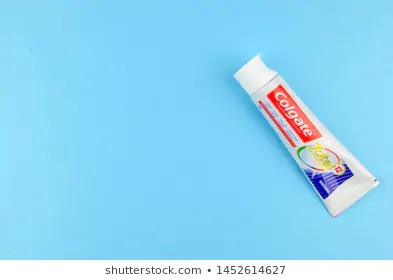colgate-total-150gm: (232, 48, 389, 238)
